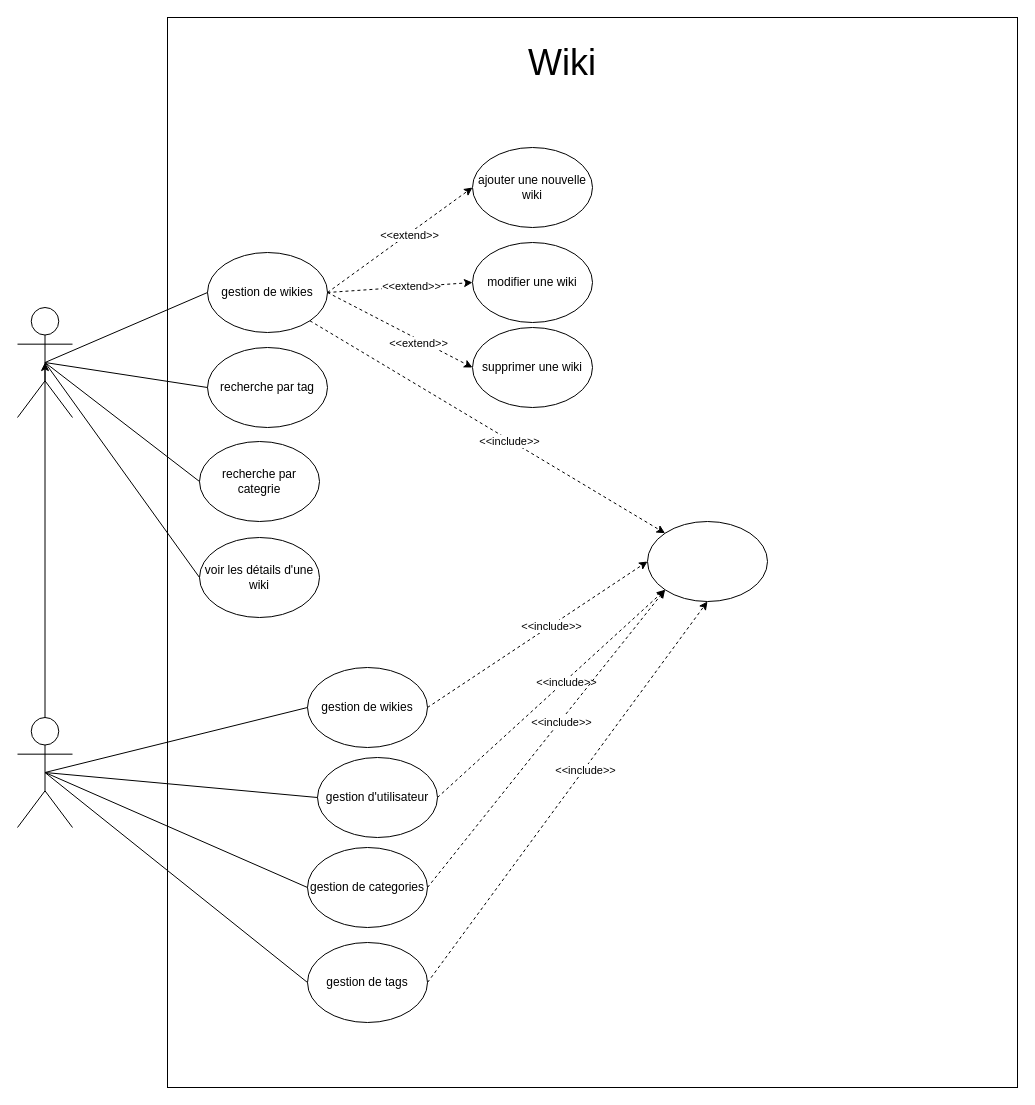
This 1035x1105 diagram has some shape labels left out. The shapes that lost their labels are listed below. From the top down, each one's centre as x and y in pixels, then its label:
the point at 44,362: author
the point at 707,561: Authentification
the point at 44,772: Admin
